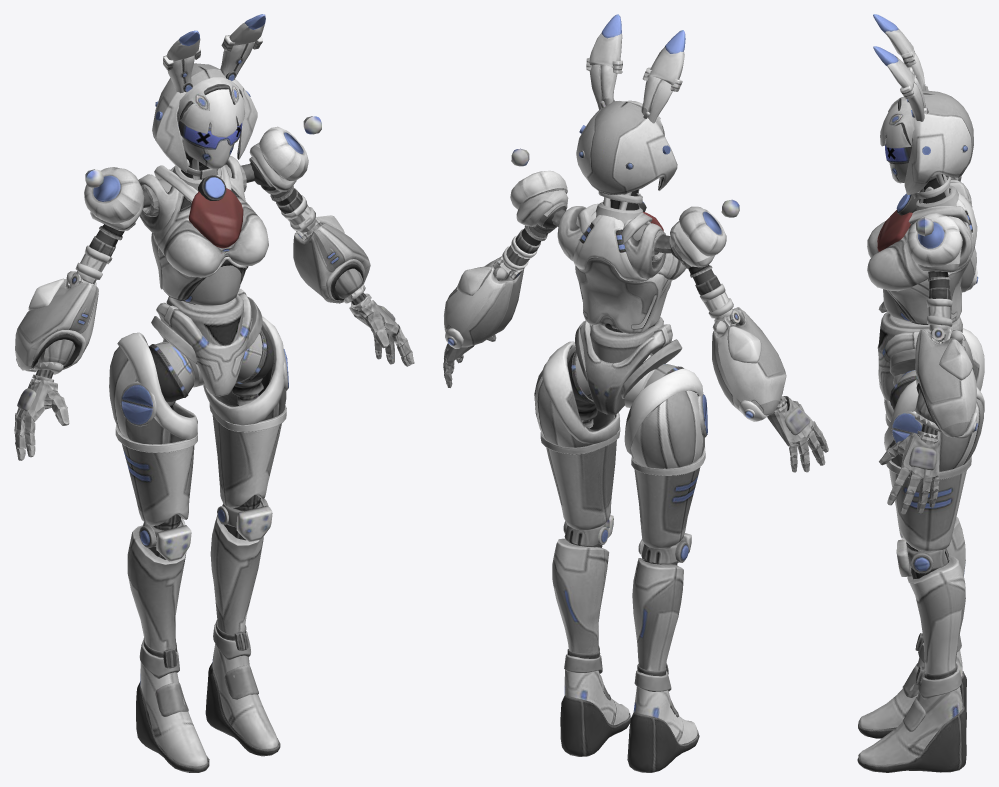
The model's file is mech1.glb.
3 renders of one model, left to right at view 1: azimuth 30°, elevation 25°; view 2: azimuth 150°, elevation 25°; view 3: azimuth 270°, elevation 25°, orthographic. The views are drawn at different scales.
Parts seen in each view (by area): view 1: Engine_09_Cammer_geo_LOD1.001; view 2: Engine_09_Cammer_geo_LOD1.001; view 3: Engine_09_Cammer_geo_LOD1.001.
Boxes of the visible parts, <box> form: Engine_09_Cammer_geo_LOD1.001: <box>14,14,414,772</box>; Engine_09_Cammer_geo_LOD1.001: <box>443,14,828,772</box>; Engine_09_Cammer_geo_LOD1.001: <box>857,14,984,772</box>.
Size of the model in its own units: 0.5689 by 1.02 by 0.1639.
Materials: 1 (1 with a texture image).
